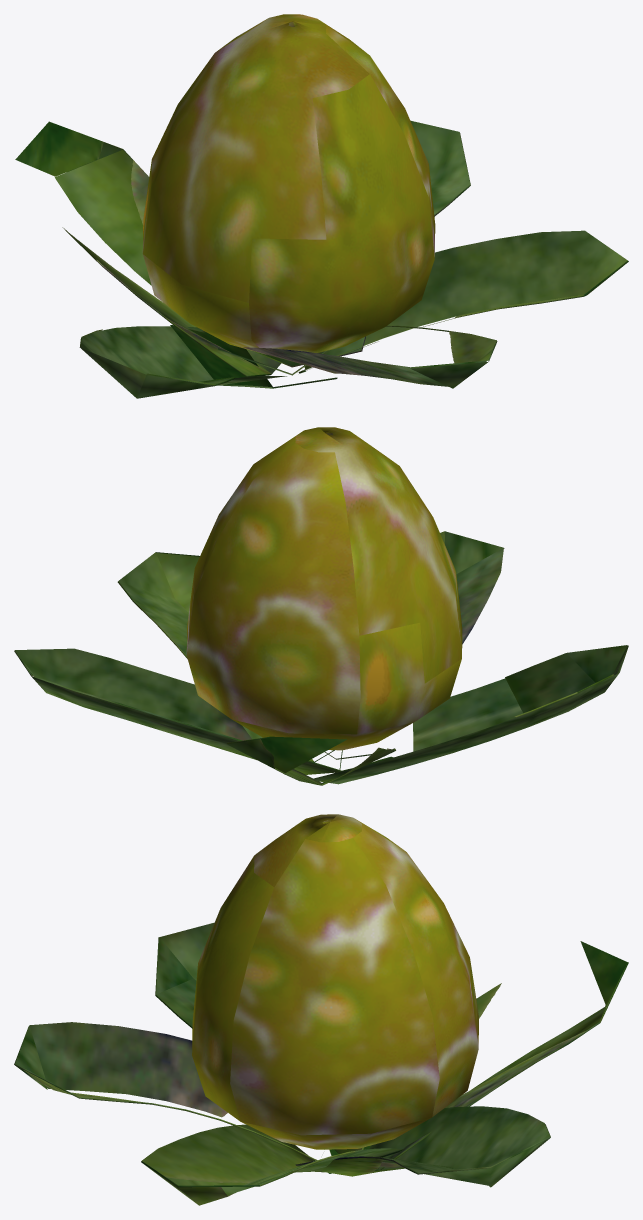
The picture shows the model from 3 angles, top to bottom: view 1: azimuth 30°, elevation 25°; view 2: azimuth 150°, elevation 25°; view 3: azimuth 270°, elevation 25°; orthographic projection. The views are drawn at different scales.
Parts seen in each view (by area): view 1: leaf3; view 2: leaf3; view 3: leaf3.
Part boxes in pixels (<box>): leaf3: <box>15,14,628,398</box>; leaf3: <box>14,427,628,785</box>; leaf3: <box>14,814,628,1205</box>.
Size of the model in its own units: 0.0374 by 0.0389 by 0.0251.
